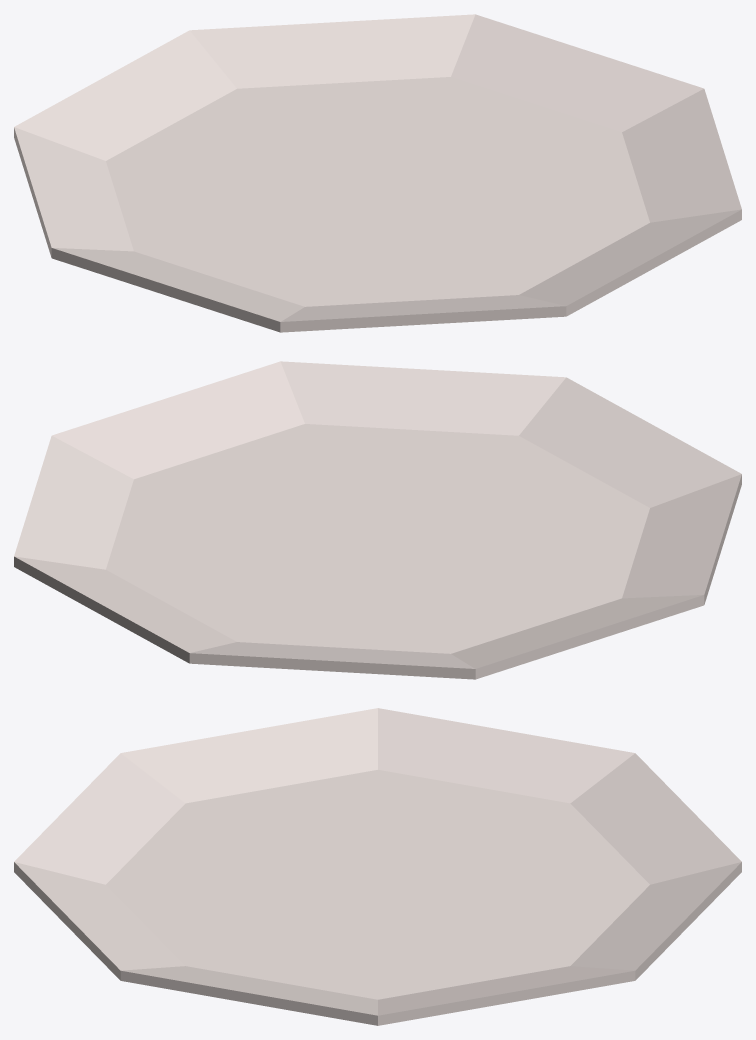
File: dishes.fbx
The picture shows the model from 3 angles, top to bottom: view 1: azimuth 30°, elevation 25°; view 2: azimuth 150°, elevation 25°; view 3: azimuth 270°, elevation 25°; orthographic projection. The views are drawn at different scales.
Visible parts, largest first — view 1: dishes; view 2: dishes; view 3: dishes.
Boxes of the visible parts, box(x1,y1,x2,y2) form: dishes: box(14, 14, 741, 332); dishes: box(14, 361, 741, 679); dishes: box(14, 708, 741, 1025).
Size of the model in its own units: 37.94 by 37.94 by 2.08.
